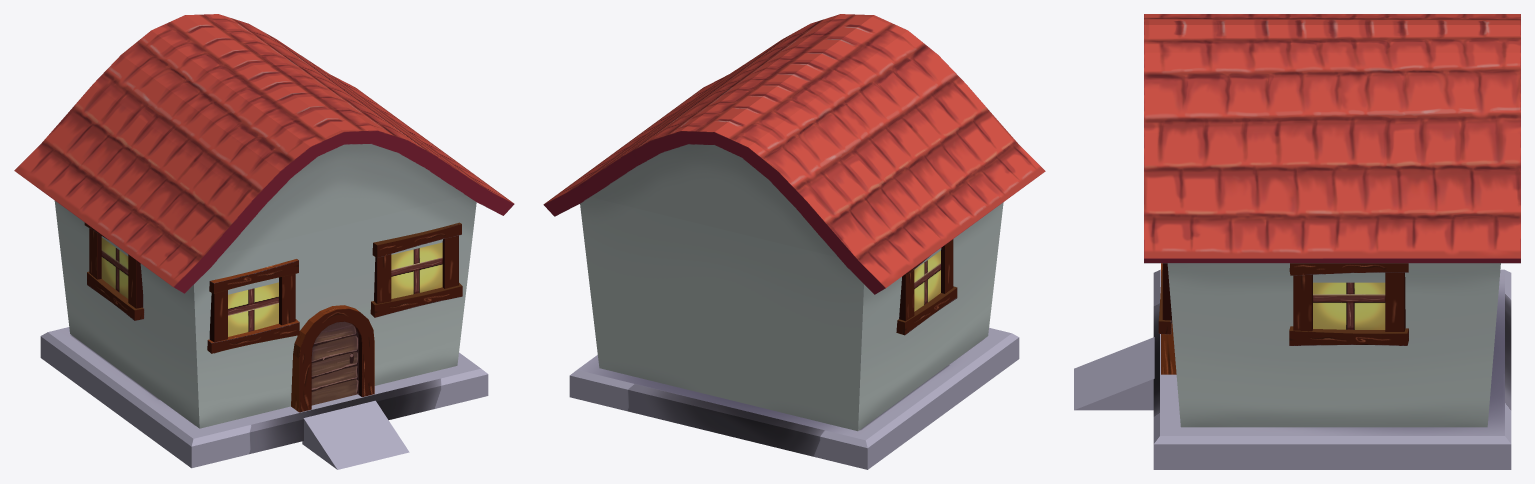
Rendered from house_2.gltf.
3 views of the same model, side by side, from view 1: azimuth 30°, elevation 25°; view 2: azimuth 150°, elevation 25°; view 3: azimuth 270°, elevation 25° (orthographic). The views are drawn at different scales.
Parts seen in each view (by area): view 1: House2Mesh; view 2: House2Mesh; view 3: House2Mesh.
Boxes of the visible parts, x1,y1,x2,y2 form: House2Mesh: (14,14,514,469); House2Mesh: (543,14,1045,469); House2Mesh: (1074,14,1520,469).
Size of what is drawn, in the model's own units: 4.92 by 4.24 by 4.71.
Materials: 1 (1 with a texture image).
